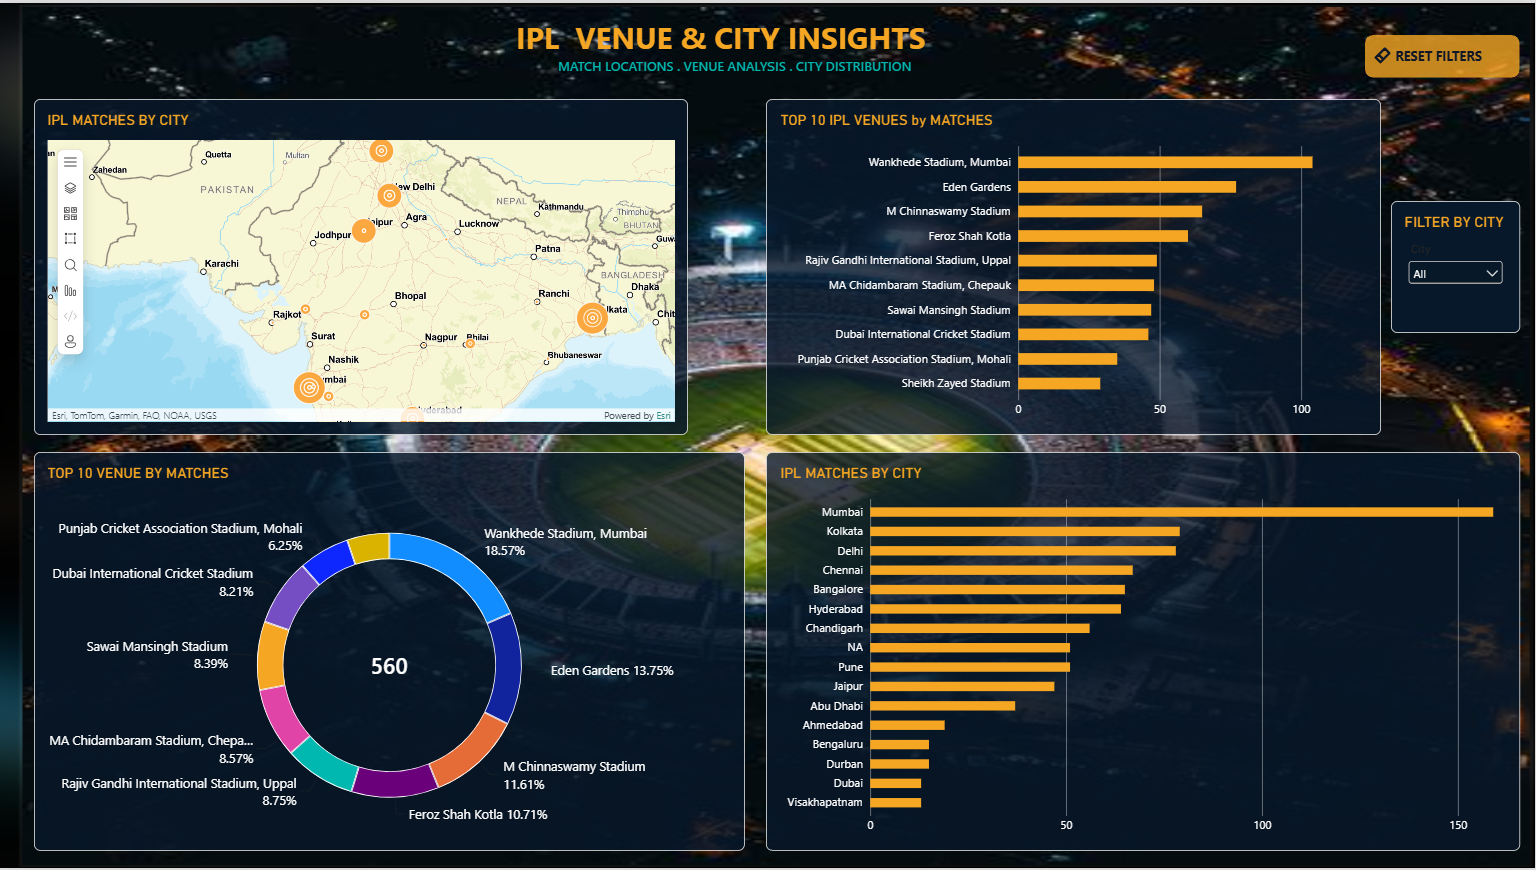

Layout of this report page (visuals, bound fields, positions):
{"tool":"powerbi","page":{"name":"Venue & City Insights","canvas":[1920,1080],"ordinal":3},"visuals":[{"type":"textbox","box":[646.7,16.7,523.3,103.3],"z":0},{"type":"esriVisual","title":"IPL MATCHES BY CITY","fields":{"Location":["ipl-matches.City"],"Size":["CountNonNull(ipl-matches.ID)"]},"box":[45,120,817.5,420],"z":1000},{"type":"clusteredBarChart","title":"TOP 10 IPL VENUES by MATCHES","fields":{"Category":["ipl-matches.Venue"],"Y":["Count(ipl-matches.ID)"]},"box":[960,120,767.5,420],"z":2000},{"type":"clusteredBarChart","title":"IPL MATCHES BY CITY","fields":{"Category":["ipl-matches.City"],"Y":["CountNonNull(ipl-matches.ID)"]},"box":[960,560,941.7,498.3],"z":3000},{"type":"donutChart","title":"TOP 10 VENUE BY MATCHES","fields":{"Category":["ipl-matches.Venue"],"Y":["CountNonNull(ipl-matches.ID)"]},"box":[45,560,888.3,498.3],"z":4000},{"type":"slicer","title":"FILTER BY CITY","fields":{"Values":["ipl-matches.City"]},"box":[1740,246.7,161.7,165],"z":5000},{"type":"actionButton","box":[1708,40,193.3,53.3],"z":5001}]}

Visuals, with their boxes in screenshot pixels (x1, y1, x2, y2), scaled from the page's 1920x1080 canvas onto the 1536x870 screenshot:
textbox: bbox(517, 13, 936, 97)
"IPL MATCHES BY CITY" esriVisual: bbox(36, 97, 690, 435)
"TOP 10 IPL VENUES by MATCHES" clusteredBarChart: bbox(768, 97, 1382, 435)
"IPL MATCHES BY CITY" clusteredBarChart: bbox(768, 451, 1521, 853)
"TOP 10 VENUE BY MATCHES" donutChart: bbox(36, 451, 747, 853)
"FILTER BY CITY" slicer: bbox(1392, 199, 1521, 332)
actionButton: bbox(1366, 32, 1521, 75)
